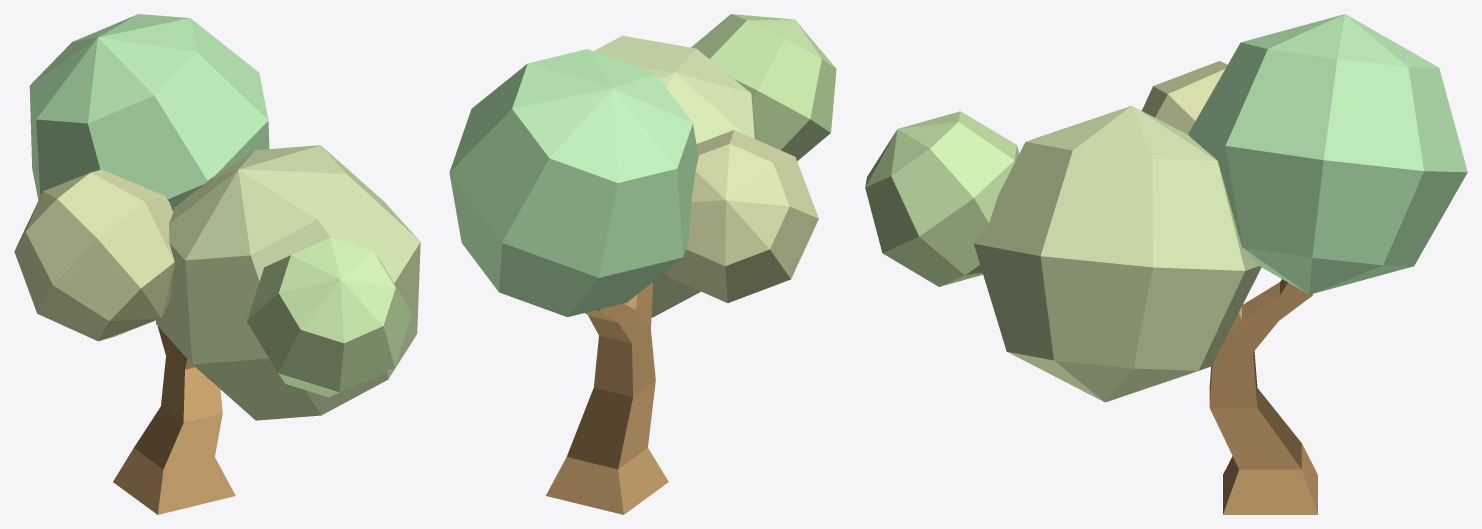
Rendered from LowPolyTree_4.fbx.
The picture shows the model from 3 angles, left to right: view 1: azimuth 30°, elevation 25°; view 2: azimuth 150°, elevation 25°; view 3: azimuth 270°, elevation 25°; orthographic projection. The views are drawn at different scales.
Parts seen in each view (by area): view 1: Esfera_1, Esfera_3, Esfera, Esfera_5, Cubo; view 2: Esfera_3, Esfera, Cubo, Esfera_5, Esfera_1; view 3: Esfera_1, Esfera_3, Esfera_5, Cubo, Esfera.
Boxes of the visible parts, left/top/right/bottom form: Esfera_1: left=156, top=145, right=420, bottom=420; Esfera_3: left=29, top=14, right=269, bottom=210; Esfera: left=14, top=169, right=174, bottom=341; Esfera_5: left=247, top=237, right=411, bottom=397; Cubo: left=113, top=326, right=235, bottom=514; Esfera_3: left=449, top=49, right=698, bottom=316; Esfera: left=665, top=130, right=818, bottom=302; Cubo: left=546, top=283, right=668, bottom=514; Esfera_5: left=691, top=14, right=836, bottom=160; Esfera_1: left=593, top=35, right=757, bottom=317; Esfera_1: left=974, top=105, right=1261, bottom=402; Esfera_3: left=1188, top=14, right=1467, bottom=294; Esfera_5: left=865, top=111, right=1019, bottom=286; Cubo: left=1209, top=279, right=1317, bottom=514; Esfera: left=1142, top=61, right=1227, bottom=134.
Size of the model in its own units: 1026 by 1335 by 1584.
